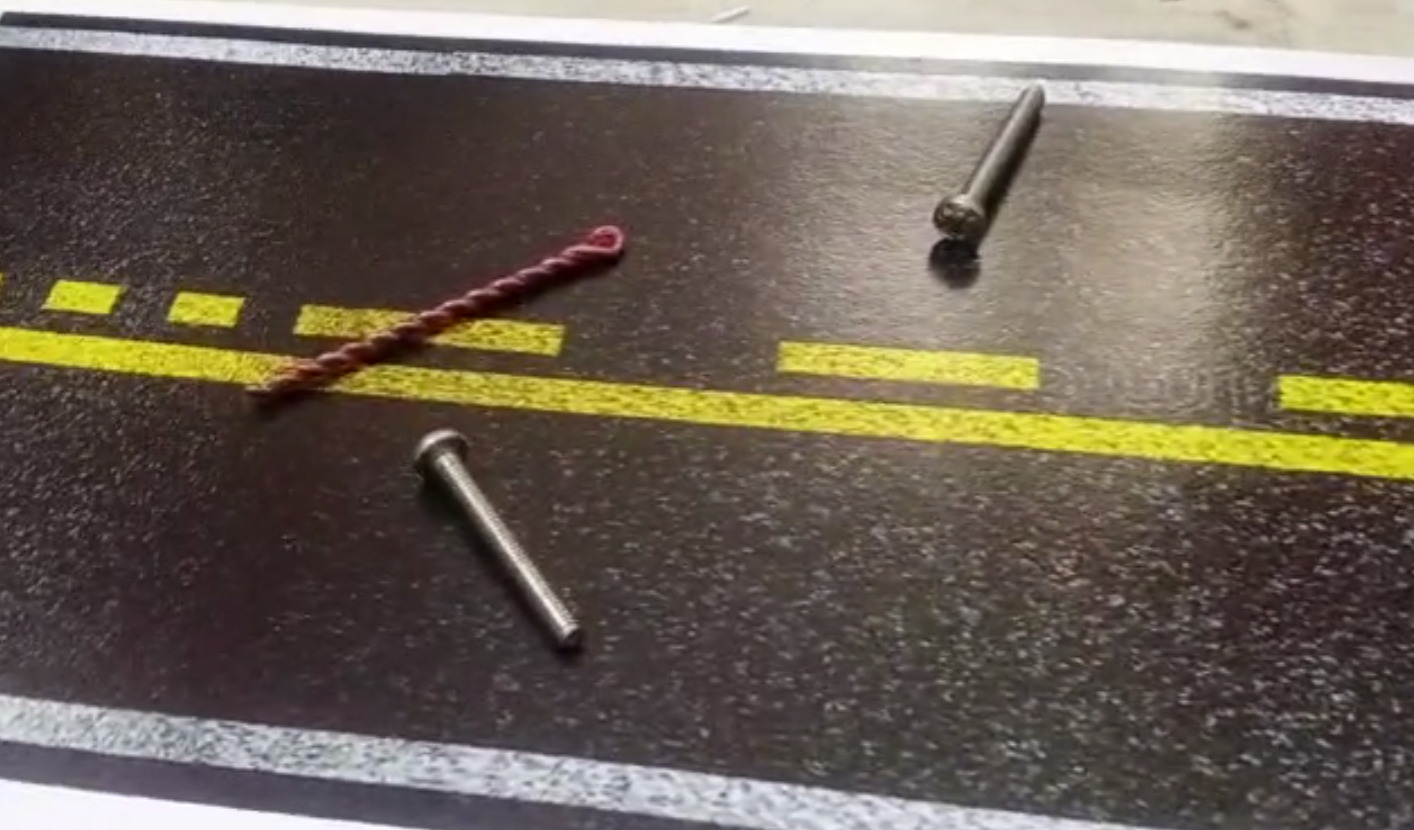metal: (250, 220, 635, 413), (403, 420, 589, 661), (925, 77, 1052, 243)
